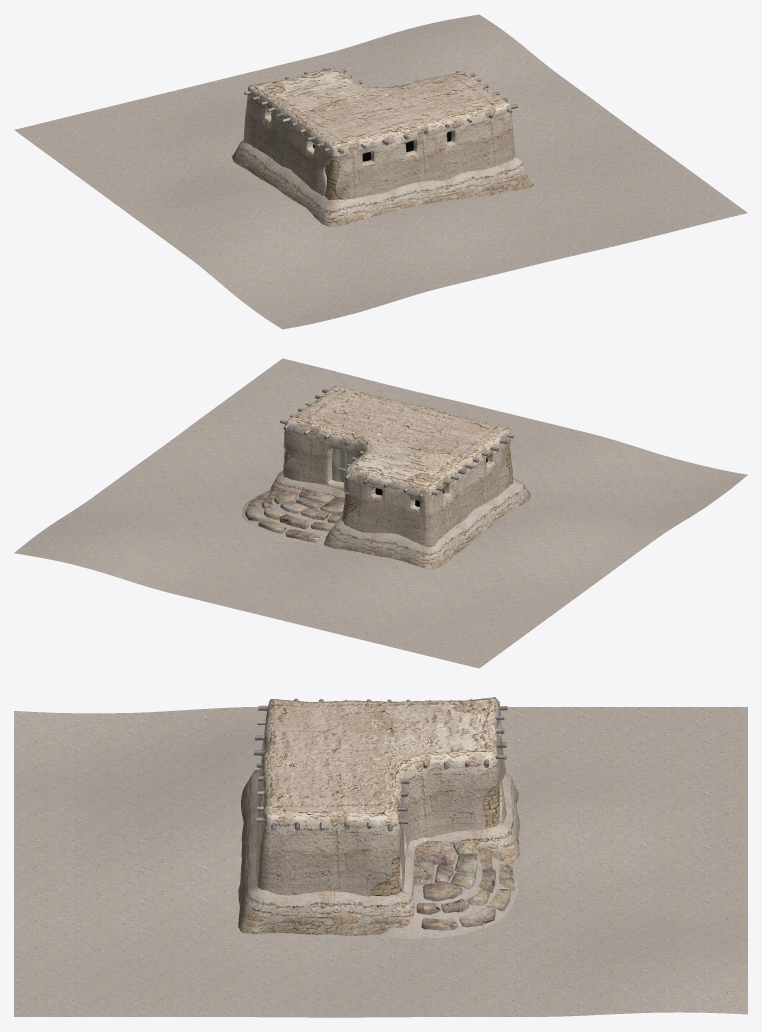
The model's file is b_barr_me.glb.
The picture shows the model from 3 angles, top to bottom: view 1: azimuth 30°, elevation 25°; view 2: azimuth 150°, elevation 25°; view 3: azimuth 270°, elevation 25°; orthographic projection. The views are drawn at different scales.
Parts seen in each view (by area): view 1: DESERT_HOUSE_01_SAND_02_0, DESERT_HOUSE_01_PLASTER_19_0, DESERT_HOUSE_01_BRICKS_23_0, DESERT_HOUSE_01_WOOD_06_0; view 2: DESERT_HOUSE_01_SAND_02_0, DESERT_HOUSE_01_PLASTER_19_0, DESERT_HOUSE_01_BRICKS_23_0, DESERT_HOUSE_01_STONE_10_0, DESERT_HOUSE_01_WOOD_06_0, DESERT_HOUSE_01_BRICKS_25_0; view 3: DESERT_HOUSE_01_SAND_02_0, DESERT_HOUSE_01_PLASTER_19_0, DESERT_HOUSE_01_BRICKS_23_0, DESERT_HOUSE_01_STONE_10_0, DESERT_HOUSE_01_WOOD_06_0, DESERT_HOUSE_01_BRICKS_25_0.
Boxes of the visible parts, x1,y1,x2,y2 form: DESERT_HOUSE_01_SAND_02_0: (14,14,747,329); DESERT_HOUSE_01_PLASTER_19_0: (243,68,515,199); DESERT_HOUSE_01_BRICKS_23_0: (232,140,533,227); DESERT_HOUSE_01_WOOD_06_0: (244,68,517,154); DESERT_HOUSE_01_SAND_02_0: (14,358,747,668); DESERT_HOUSE_01_PLASTER_19_0: (283,385,512,547); DESERT_HOUSE_01_BRICKS_23_0: (269,471,530,569); DESERT_HOUSE_01_STONE_10_0: (245,488,344,542); DESERT_HOUSE_01_WOOD_06_0: (280,386,514,497); DESERT_HOUSE_01_BRICKS_25_0: (283,444,512,521); DESERT_HOUSE_01_SAND_02_0: (14,707,747,1017); DESERT_HOUSE_01_PLASTER_19_0: (255,697,506,896); DESERT_HOUSE_01_BRICKS_23_0: (238,769,520,935); DESERT_HOUSE_01_STONE_10_0: (413,840,514,930); DESERT_HOUSE_01_WOOD_06_0: (254,698,507,832); DESERT_HOUSE_01_BRICKS_25_0: (370,780,499,896).
Size of the model in its own units: 3000 by 536 by 3000.
8 materials, 7 textured.
